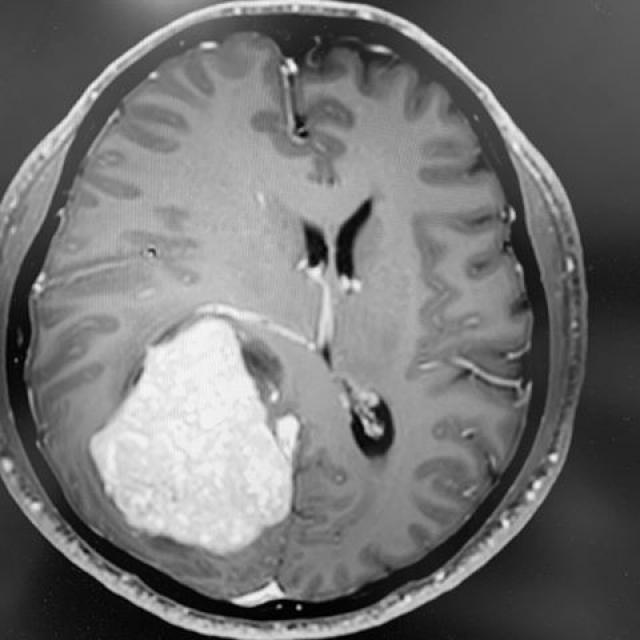Brain-Tumor: (82, 301, 313, 569)
